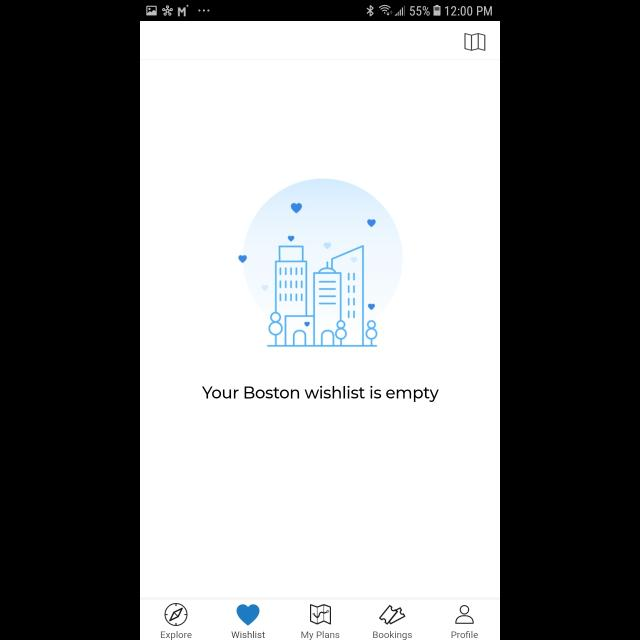icon: (165, 602, 188, 626), (379, 605, 405, 625), (237, 604, 260, 626), (310, 604, 332, 624), (464, 33, 486, 51), (456, 604, 474, 624)
image: (238, 178, 402, 348)
text: (202, 386, 438, 402), (300, 630, 340, 640), (372, 630, 412, 640), (160, 630, 192, 640), (452, 630, 478, 638), (231, 632, 265, 638)
uppertaskbar: (140, 1, 500, 22)
